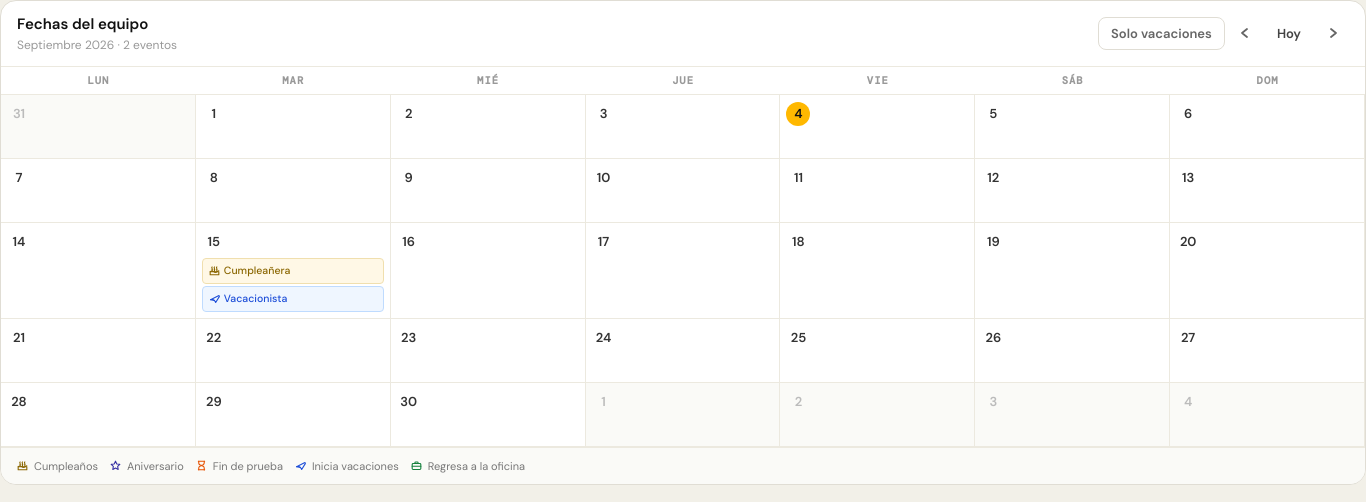
Scenario: EmployeeDatesCalendar › "Solo vacaciones" filtra las pills a solo inicio/regreso de vacaciones
expect the text "Cumpleañera" is shown: met, box 224,263 -> 290,279
Click the button "Solo vacaciones" at {"x": 1161, "y": 33}, box 1098,16 -> 1225,50
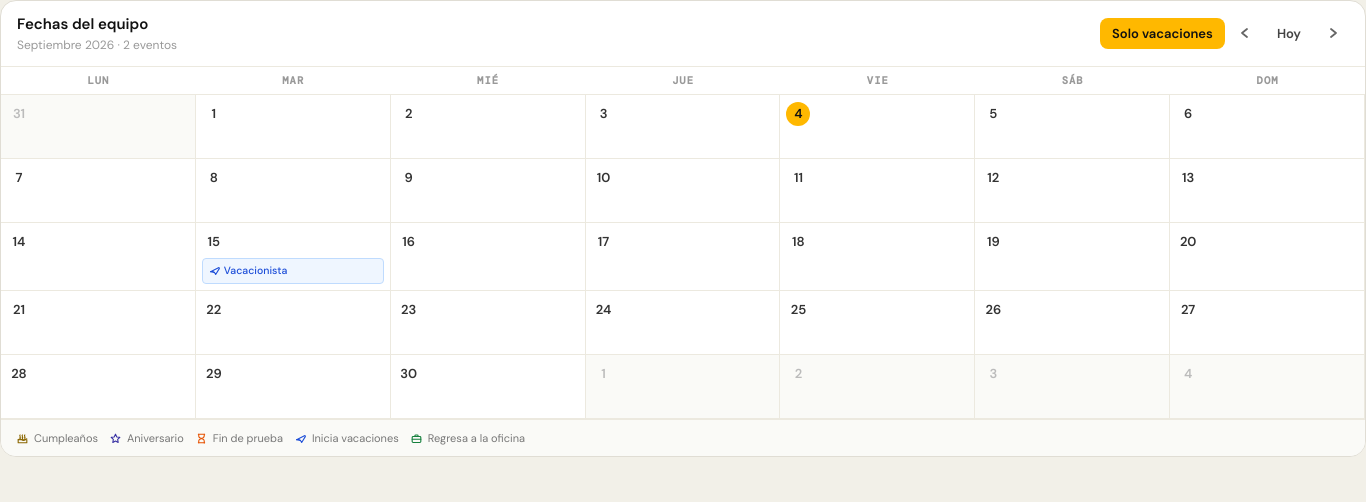
expect the text "Vacacionista" is shown: met, box 224,263 -> 287,279
expect the text "Cumpleañera" is gone: met
